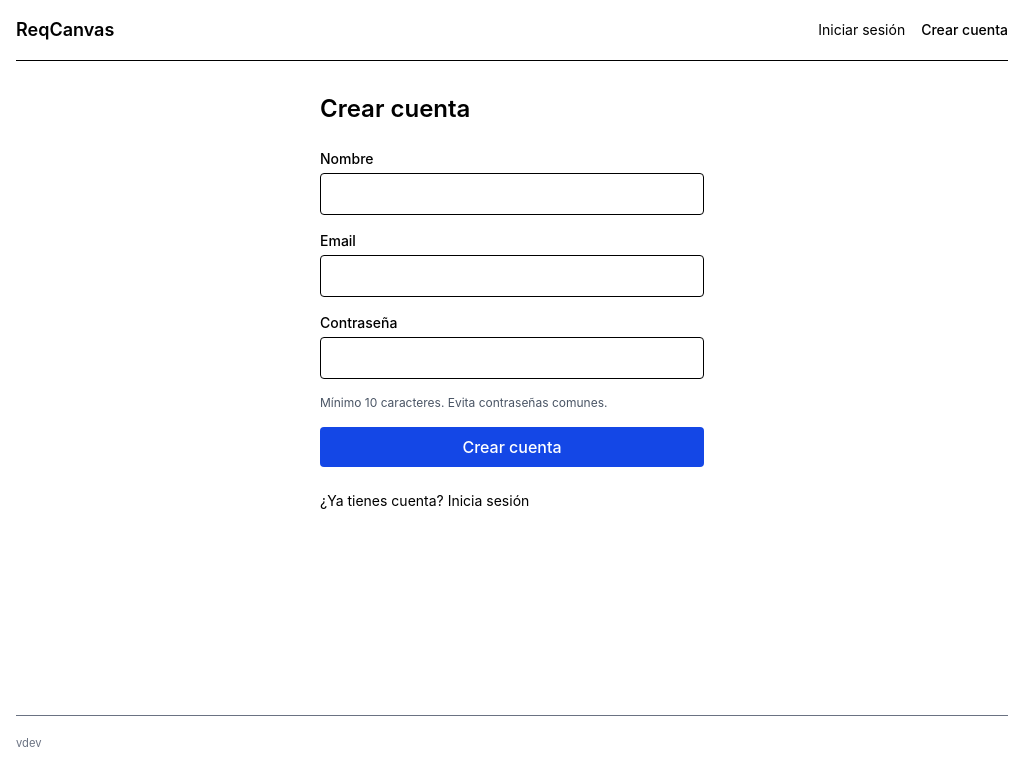
Test: registro (US1 escenario 1) › un email ya registrado muestra el mensaje genérico (US1 escenario 2)
Type "Ana" into the field labelled "Nombre" at x=512, y=194, box [320,173,704,215]
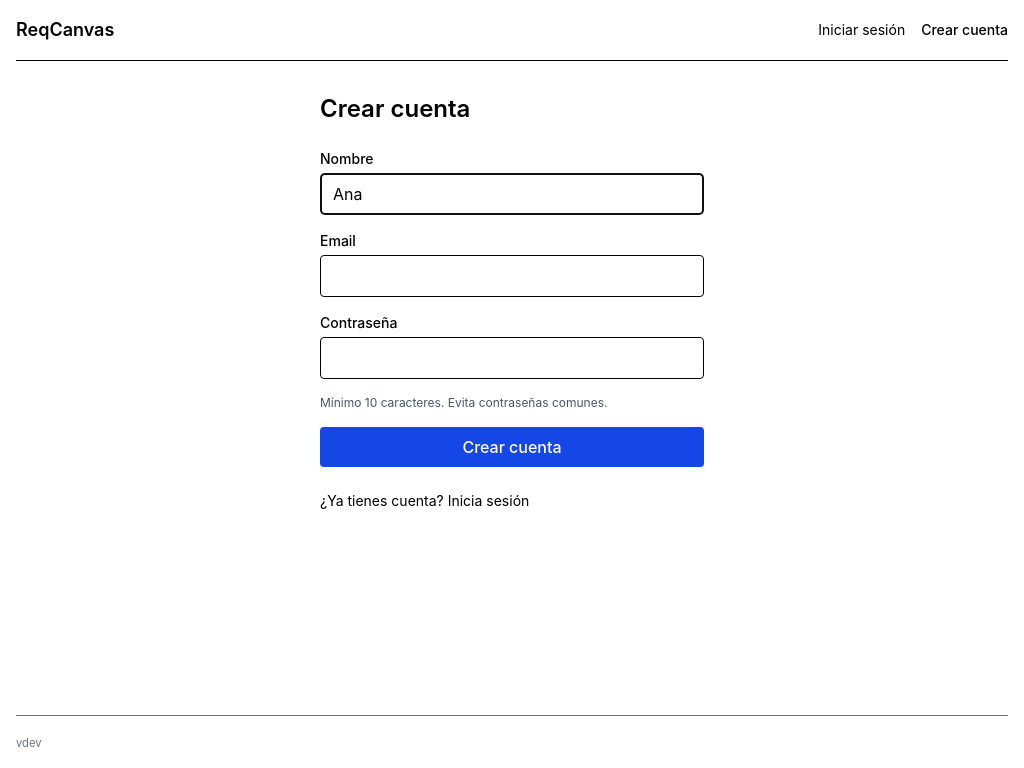
Type "ana@example.com" into the field labelled "Email" at x=512, y=276, box [320,255,704,297]
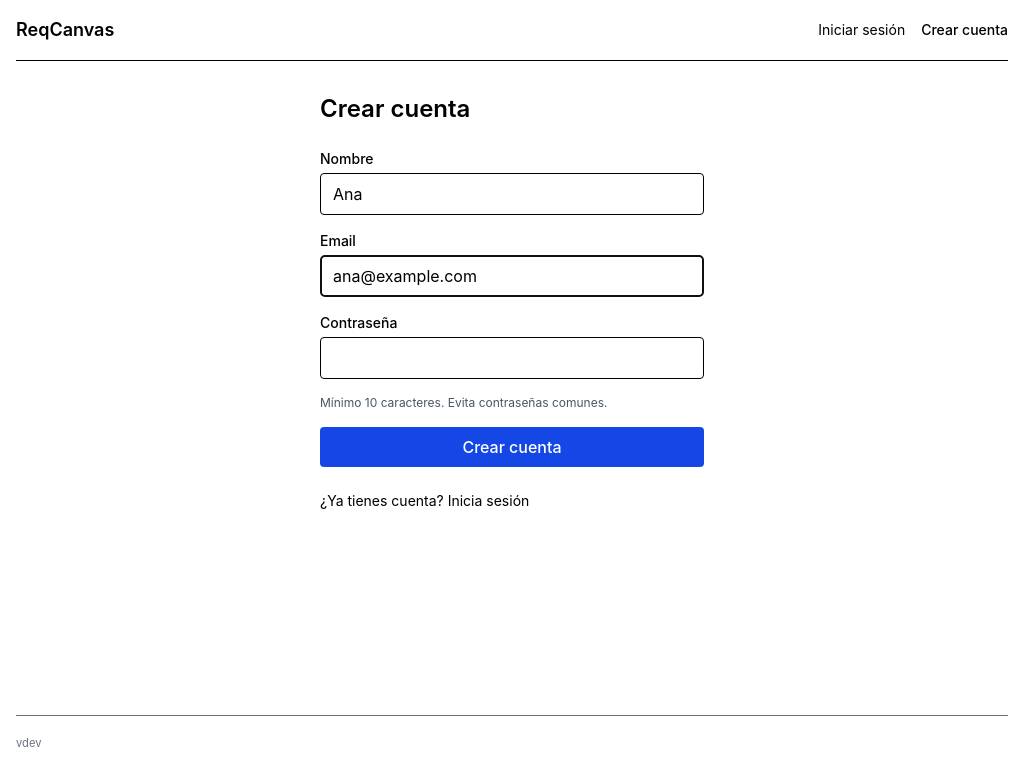
Type "una-frase-larga" into the password field labelled "Contraseña" at x=512, y=358, box [320,337,704,379]
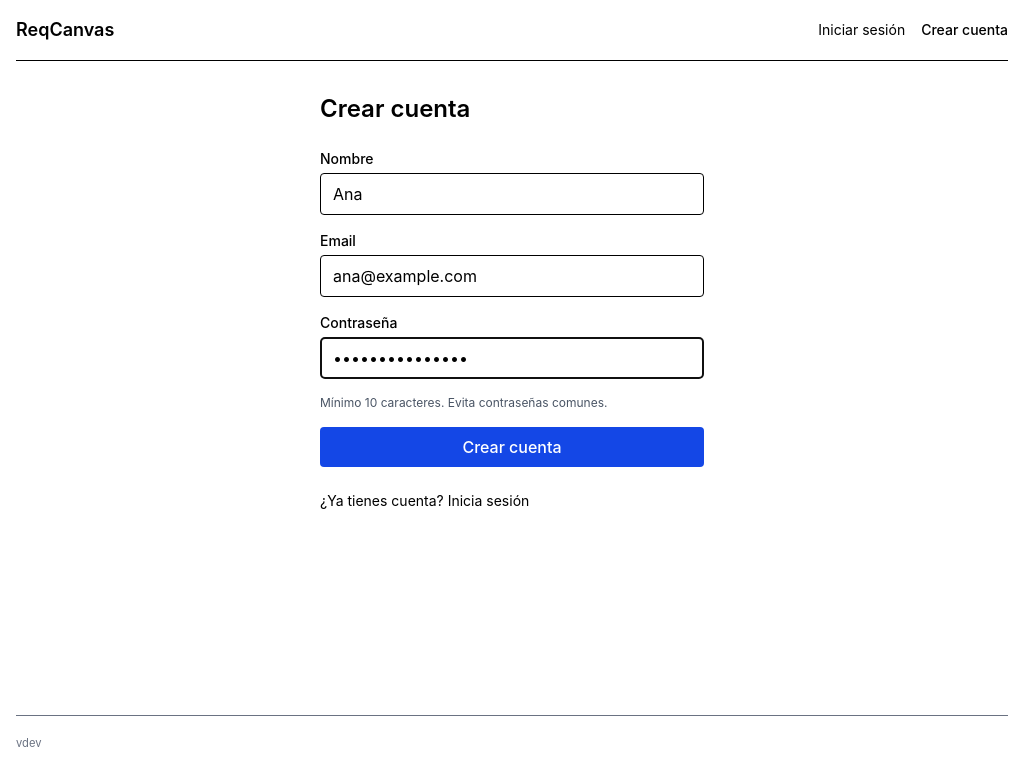
Click the button "Crear cuenta" at x=512, y=447, box [320,427,704,467]
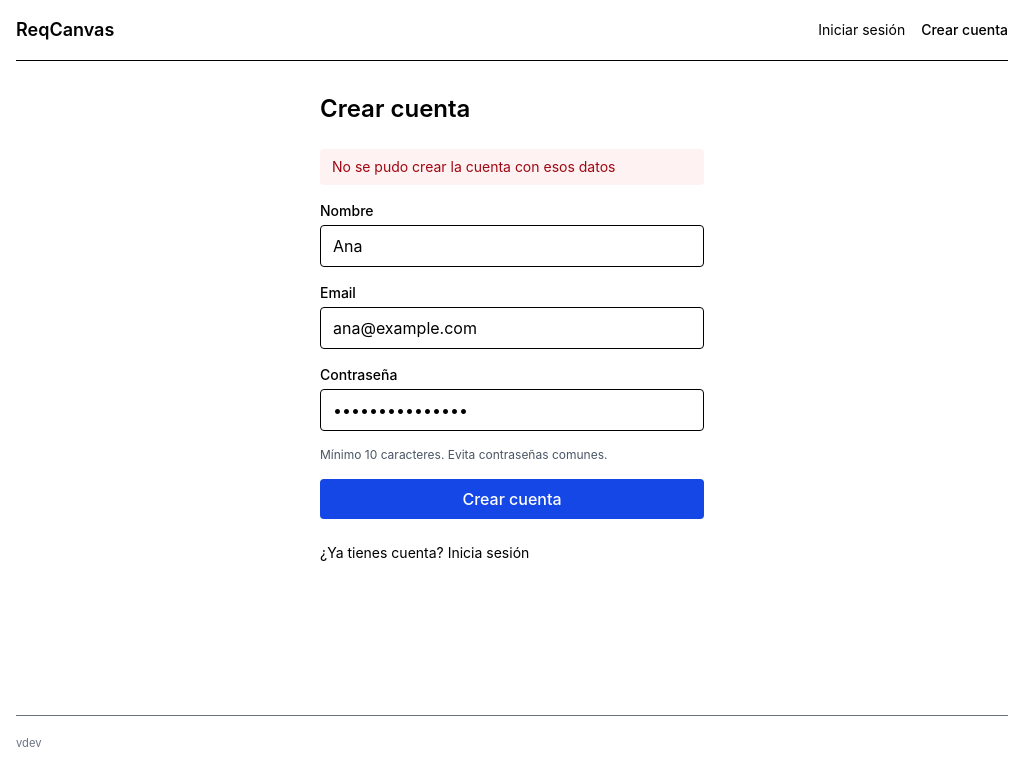
Result: the message reads "No se pudo crear la cuenta con esos datos" at [332,158,615,175]
